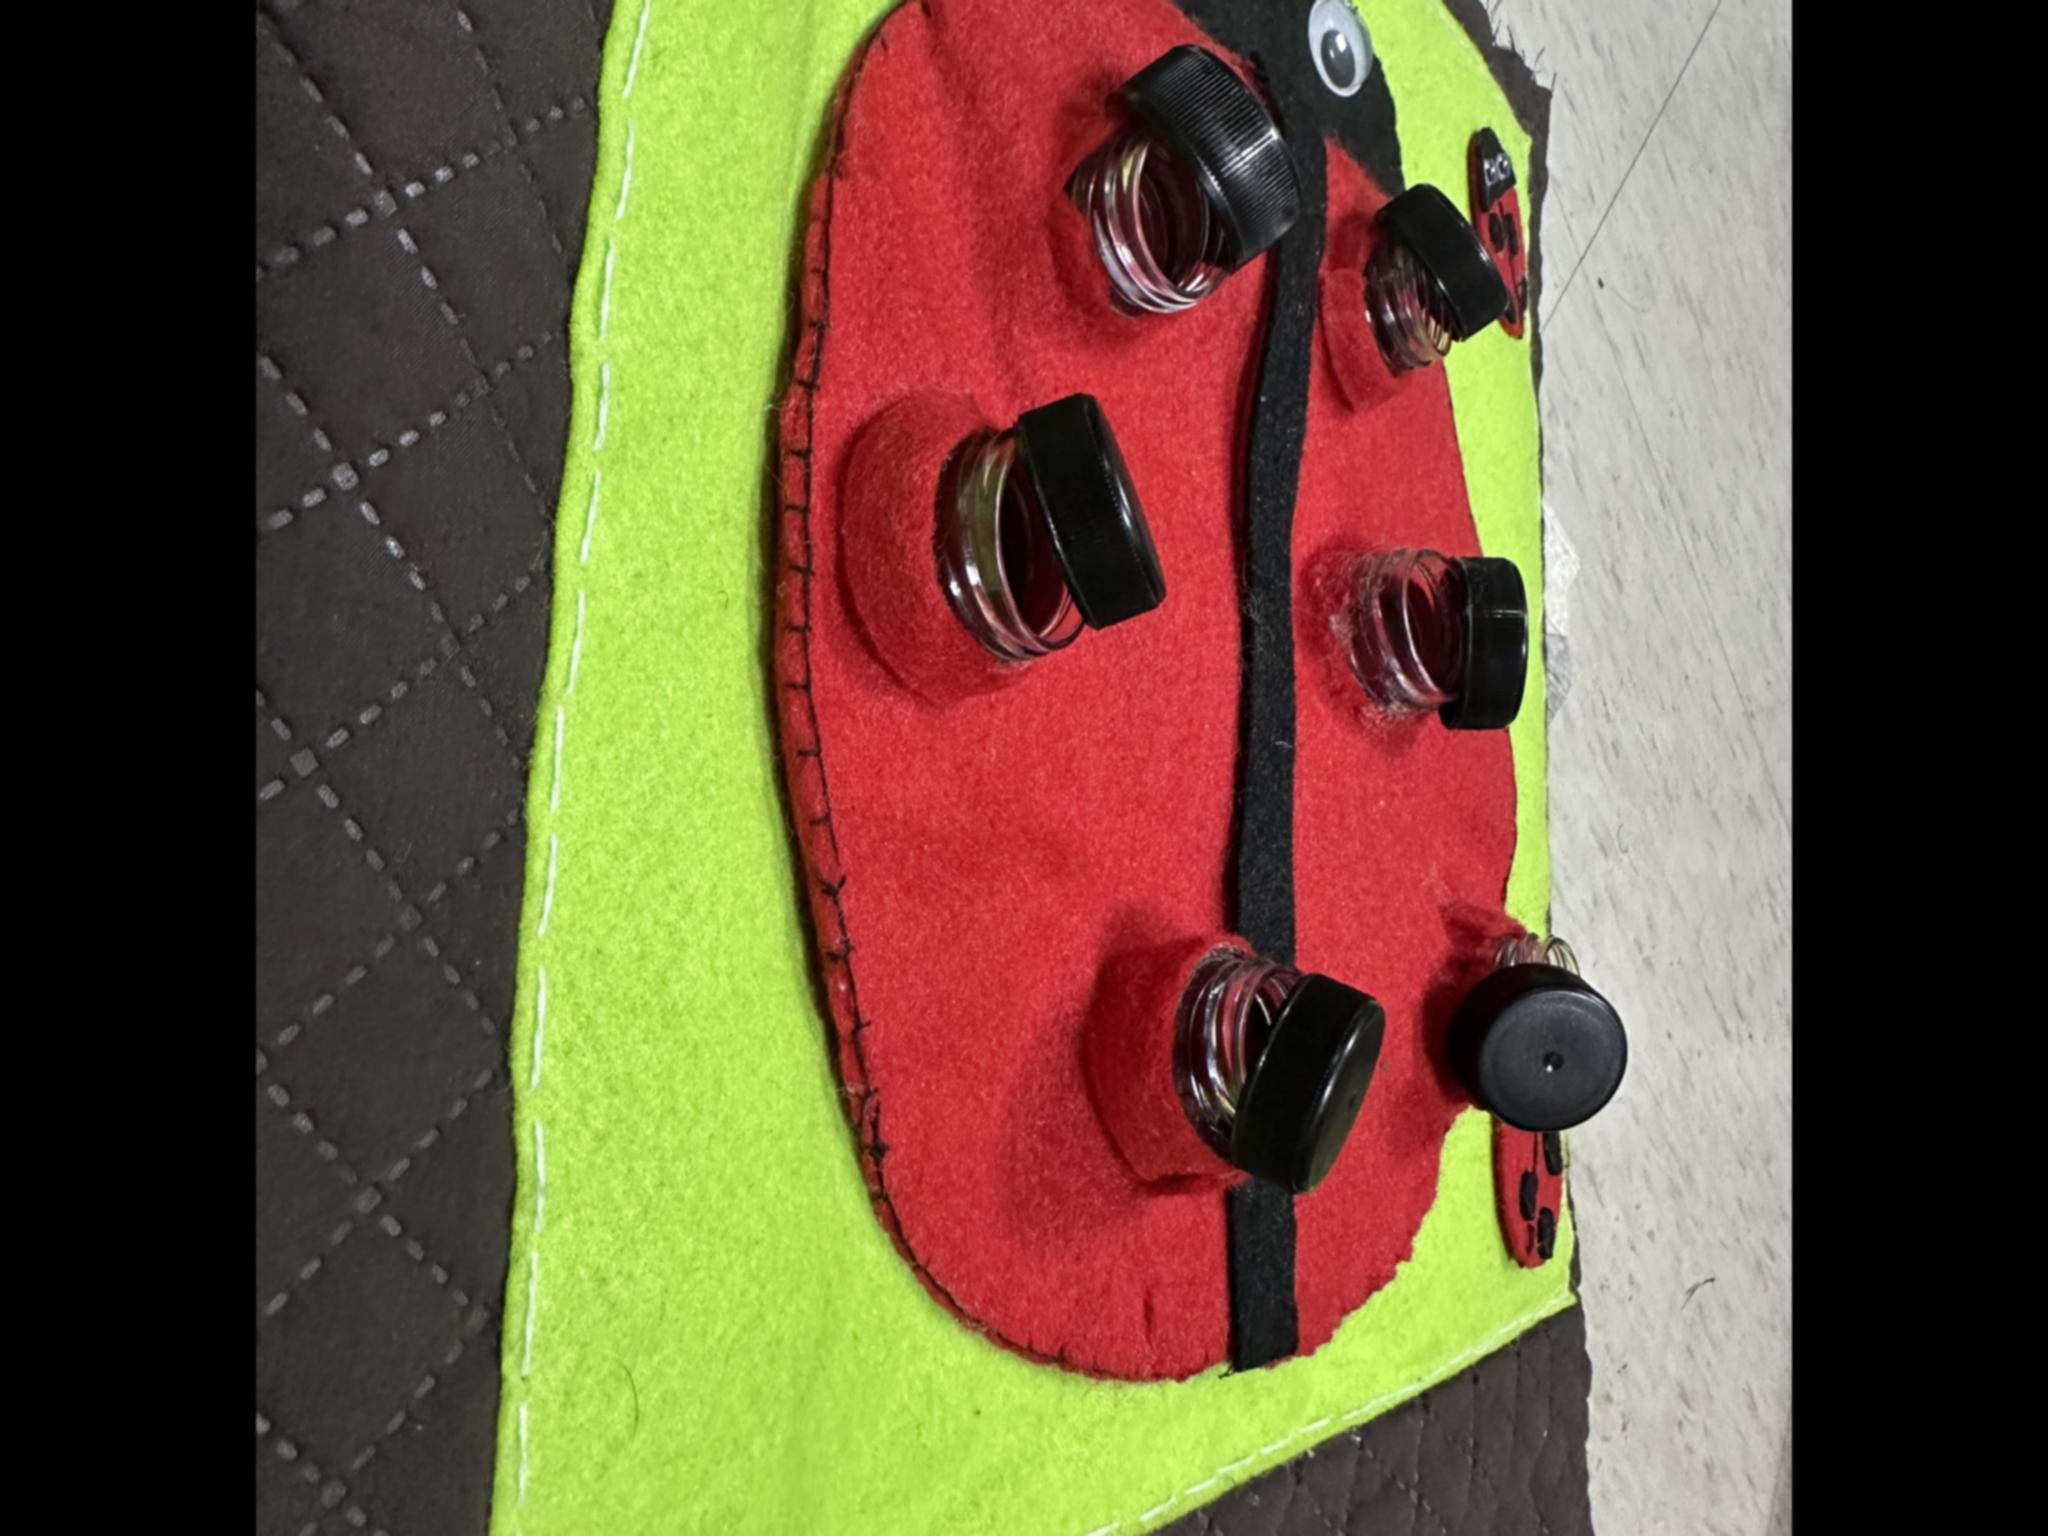cap_ng: (832, 363, 1171, 723), (1072, 918, 1403, 1218), (1064, 35, 1298, 337), (1327, 516, 1548, 744), (1313, 168, 1514, 413), (1435, 913, 1629, 1134)
